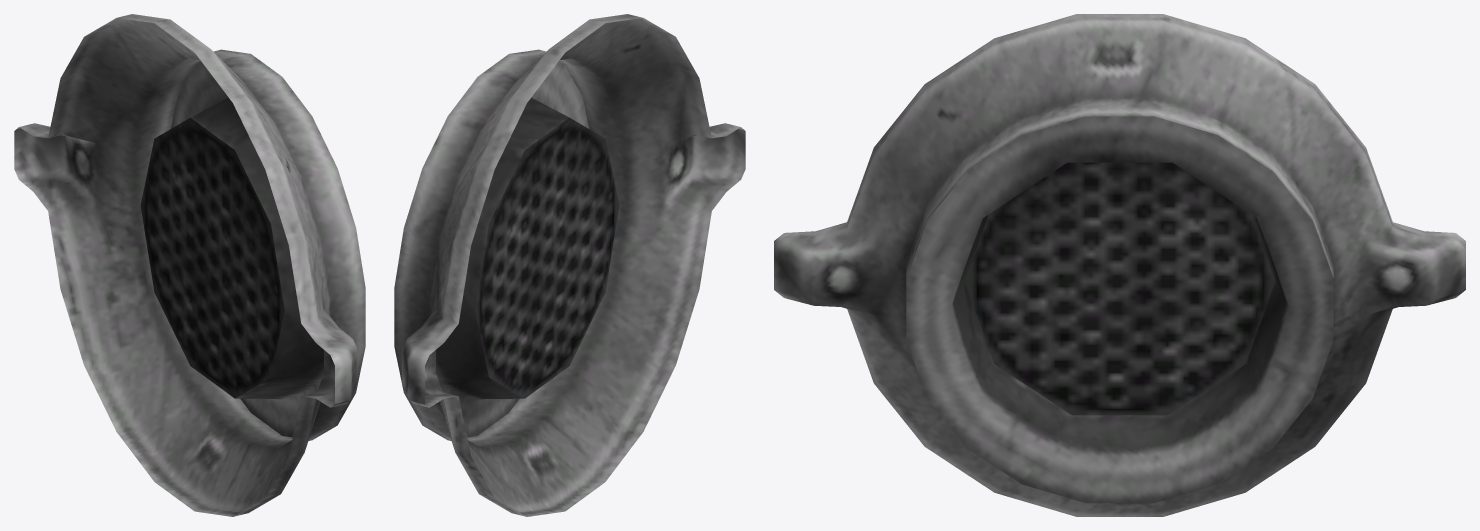
File: lab_welder.dae
3 views of the same model, side by side, from view 1: azimuth 30°, elevation 25°; view 2: azimuth 150°, elevation 25°; view 3: azimuth 270°, elevation 25° (orthographic). The views are drawn at different scales.
Parts seen in each view (by area): view 1: welder; view 2: welder; view 3: welder.
Part boxes in pixels (x1=…): welder: x1=14, y1=14, x2=365, y2=516; welder: x1=394, y1=14, x2=745, y2=516; welder: x1=774, y1=14, x2=1465, y2=516.
Size of the model in its own units: 0.0504 by 0.2398 by 0.304.
